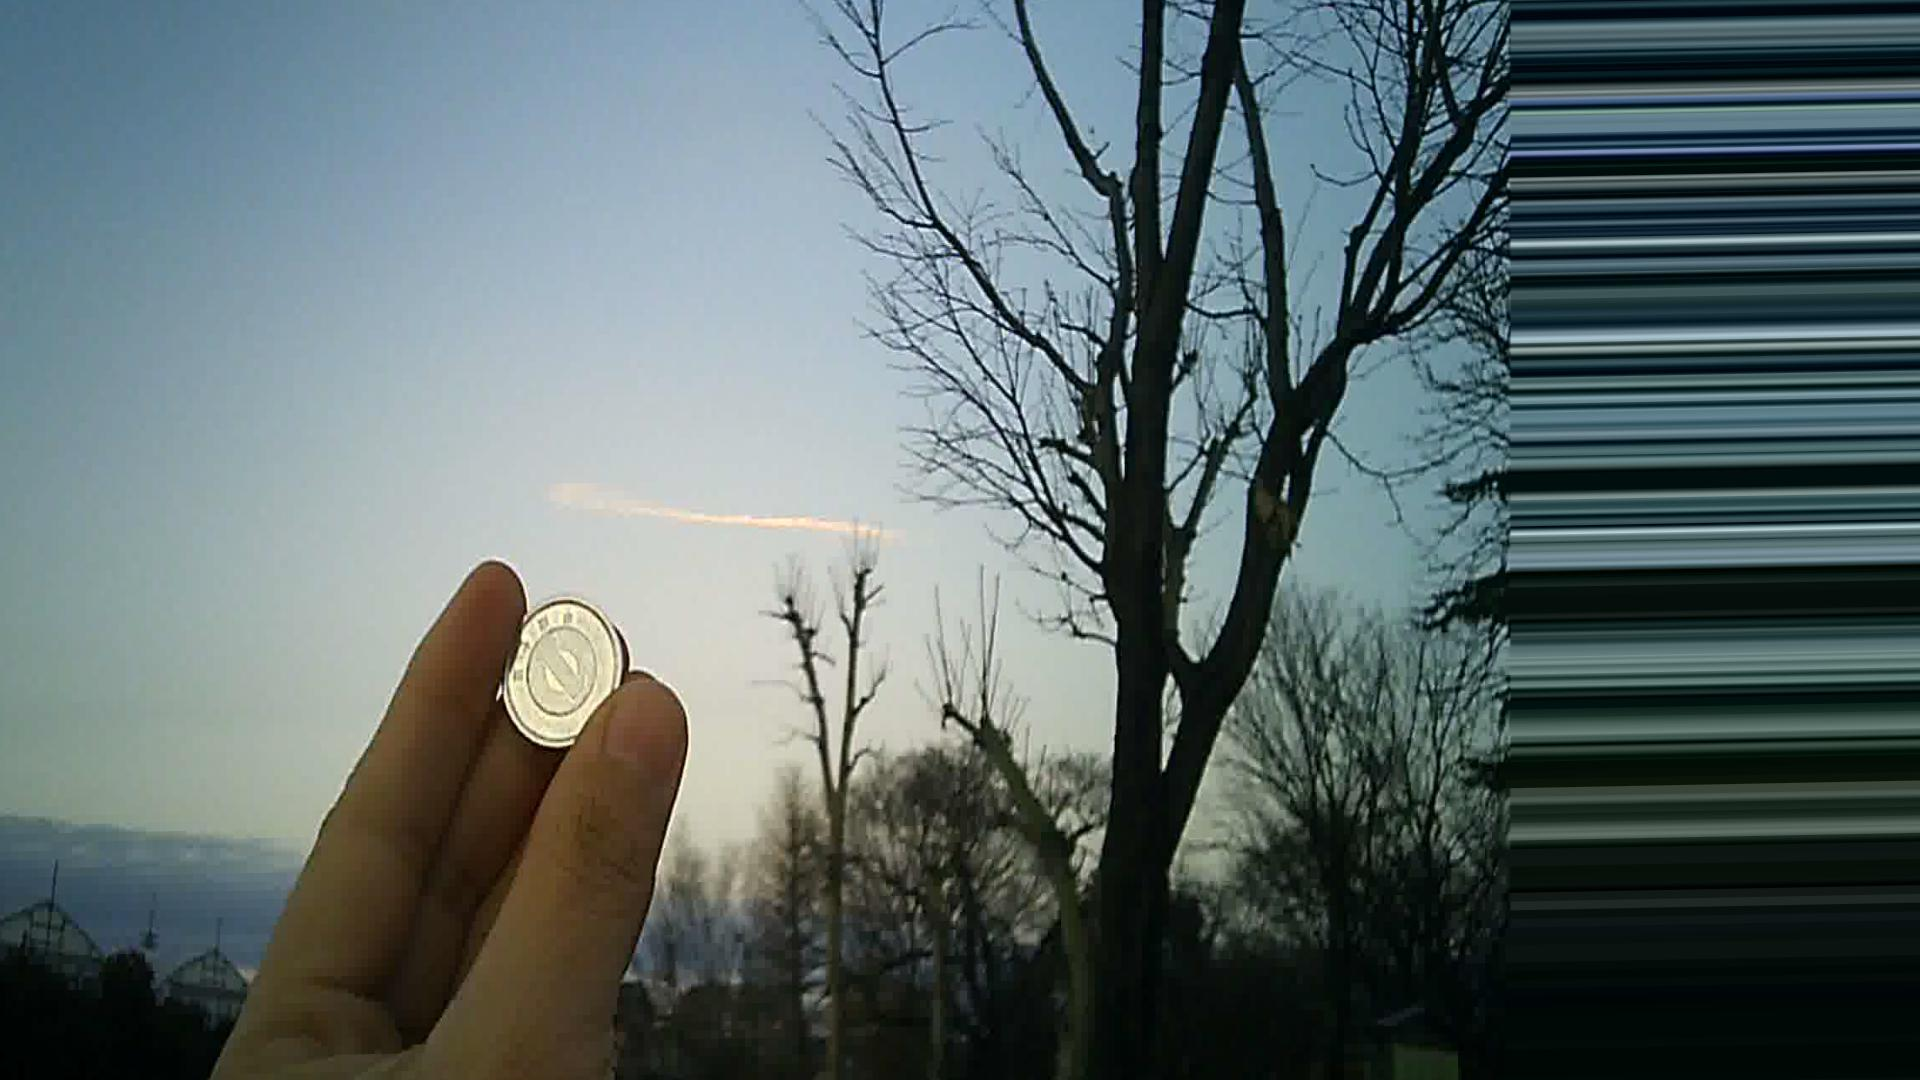1 Yen: (492, 597, 628, 748)
